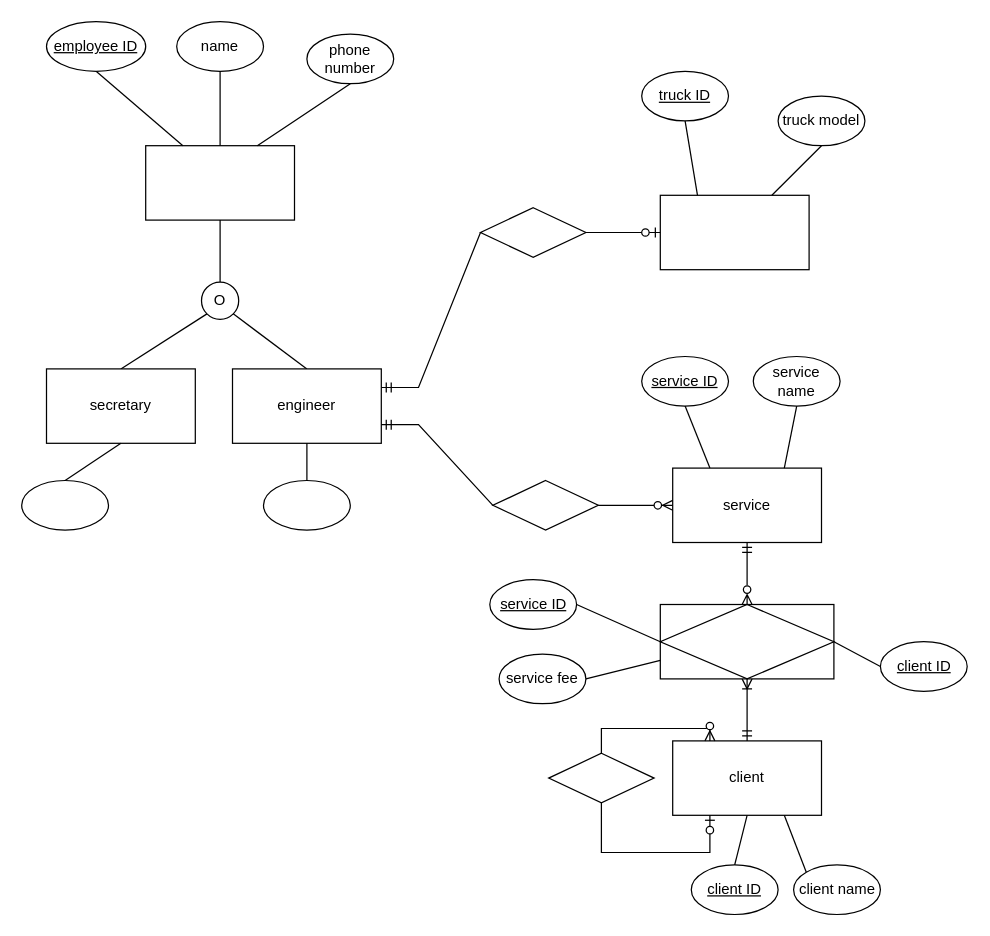
This 990x936 diagram has some shape labels left out. The centre of each missing label's shape, as x and y in pixels:
employee: the point at 219,182
own: the point at 532,231
provide: the point at 545,504
purchase: the point at 746,641
refer: the point at 600,777
special expertise: the point at 306,504
Truck: the point at 734,232
working schedule: the point at 64,504
